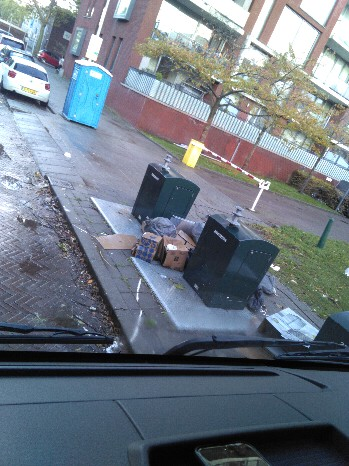Container: (205, 210, 278, 301), (146, 158, 183, 227)
Papier: (121, 228, 167, 259), (165, 230, 185, 270), (174, 225, 192, 248)
Rest: (260, 302, 300, 346)
Voertuig: (6, 46, 45, 113), (5, 31, 24, 62)
